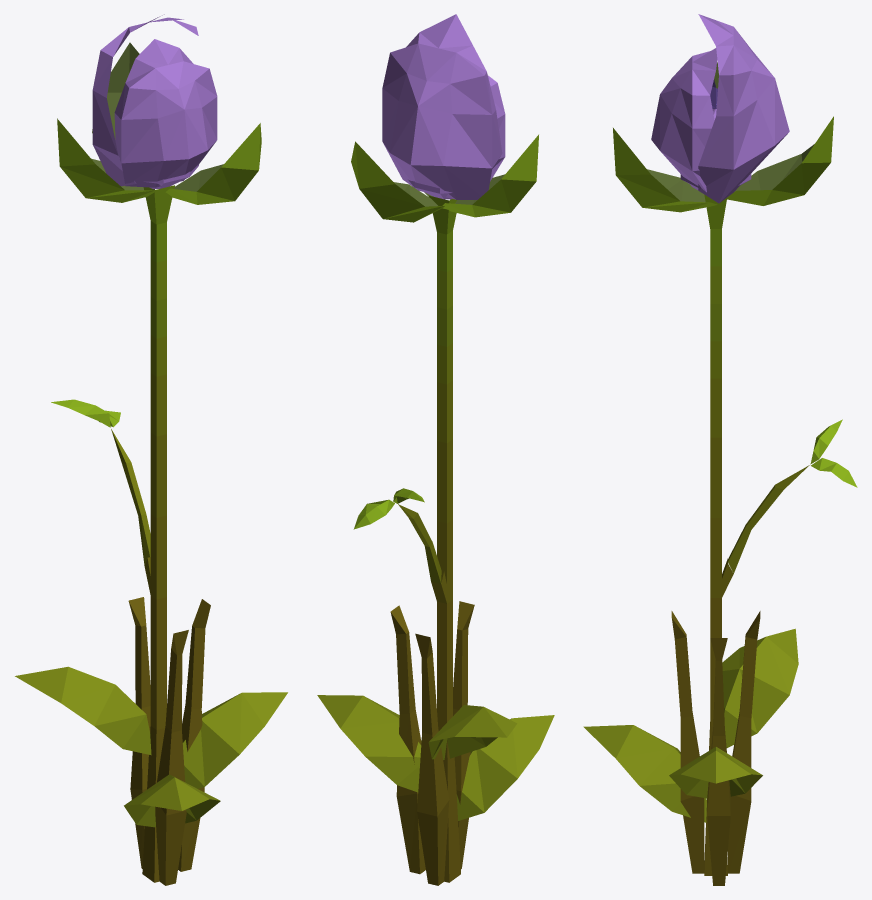
The model's file is strange_plant.glb.
3 views of the same model, side by side, from view 1: azimuth 30°, elevation 25°; view 2: azimuth 150°, elevation 25°; view 3: azimuth 270°, elevation 25° (orthographic).
Size of the model in its own units: 90 by 320 by 93.
1 material, 1 textured.
